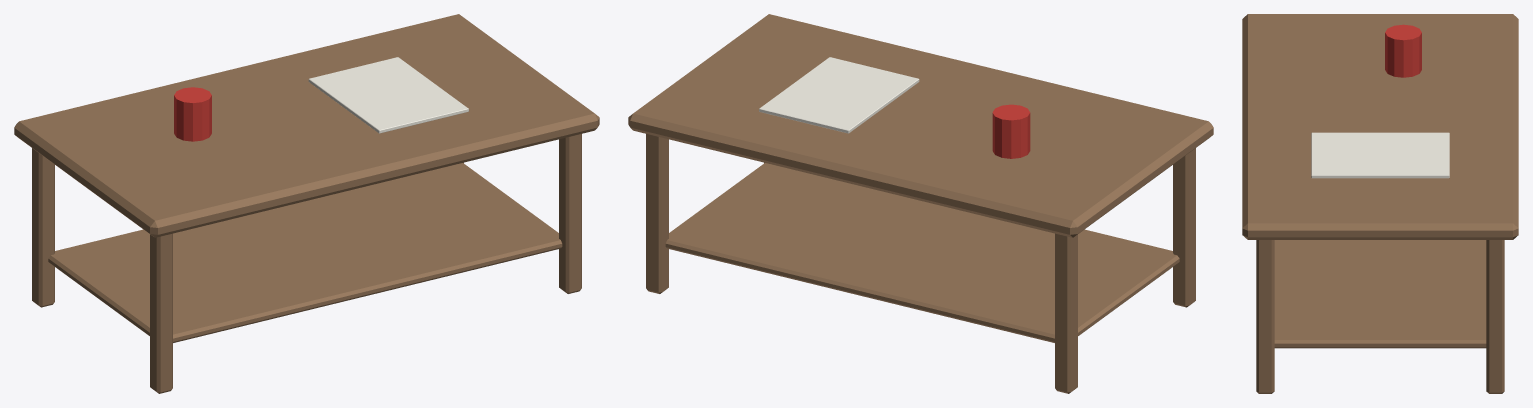
The model's file is coffee_table.fbx.
3 views of the same model, side by side, from view 1: azimuth 30°, elevation 25°; view 2: azimuth 150°, elevation 25°; view 3: azimuth 270°, elevation 25° (orthographic). The views are drawn at different scales.
Visible parts, largest first — view 1: Table; view 2: Table; view 3: Table.
Part boxes in pixels (x1,y1,x2,y2): Table: (14,14,599,393); Table: (628,14,1213,393); Table: (1242,14,1518,393).
Size of the model in its own units: 1.1 by 0.51 by 0.6.
